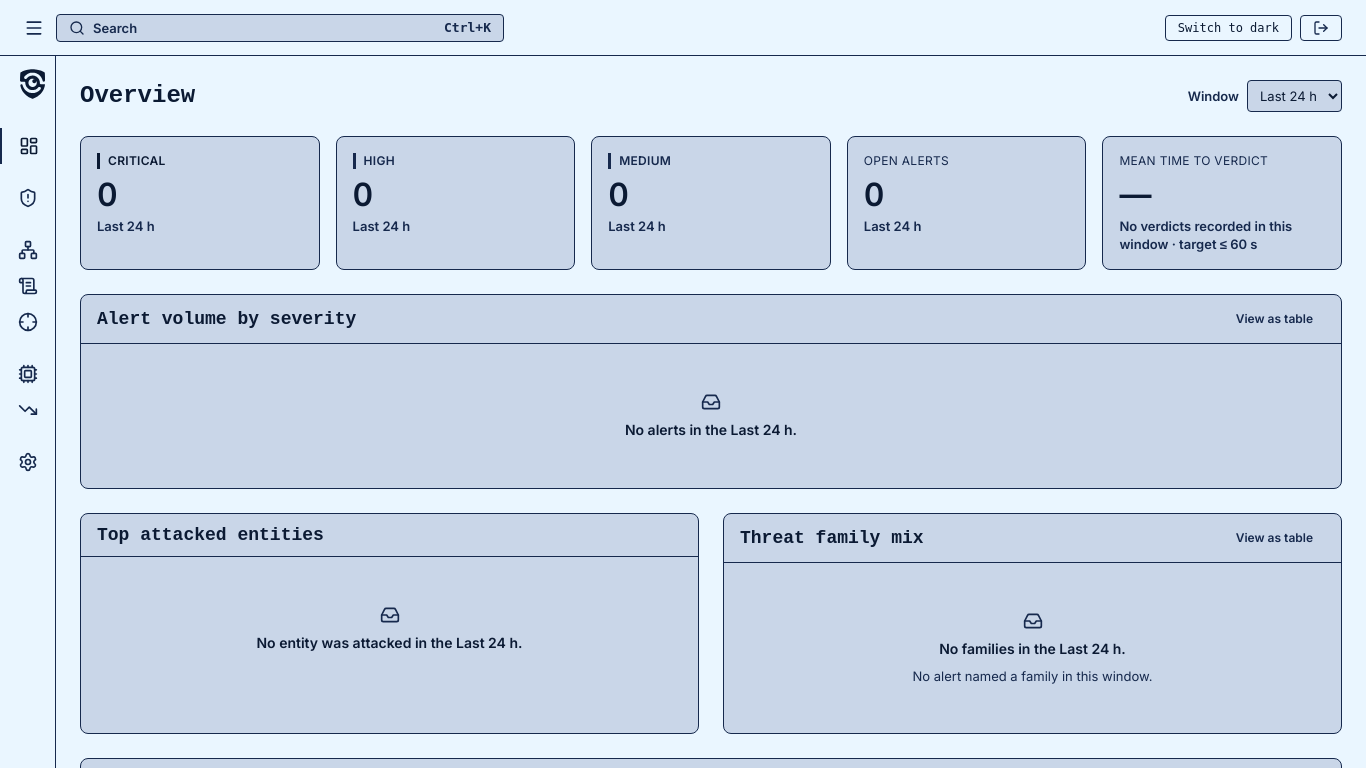
Test: routing and shell › navigates to the log explorer, which is built now
Click the link named "Logs" at (38, 290), box [18,276,59,304]
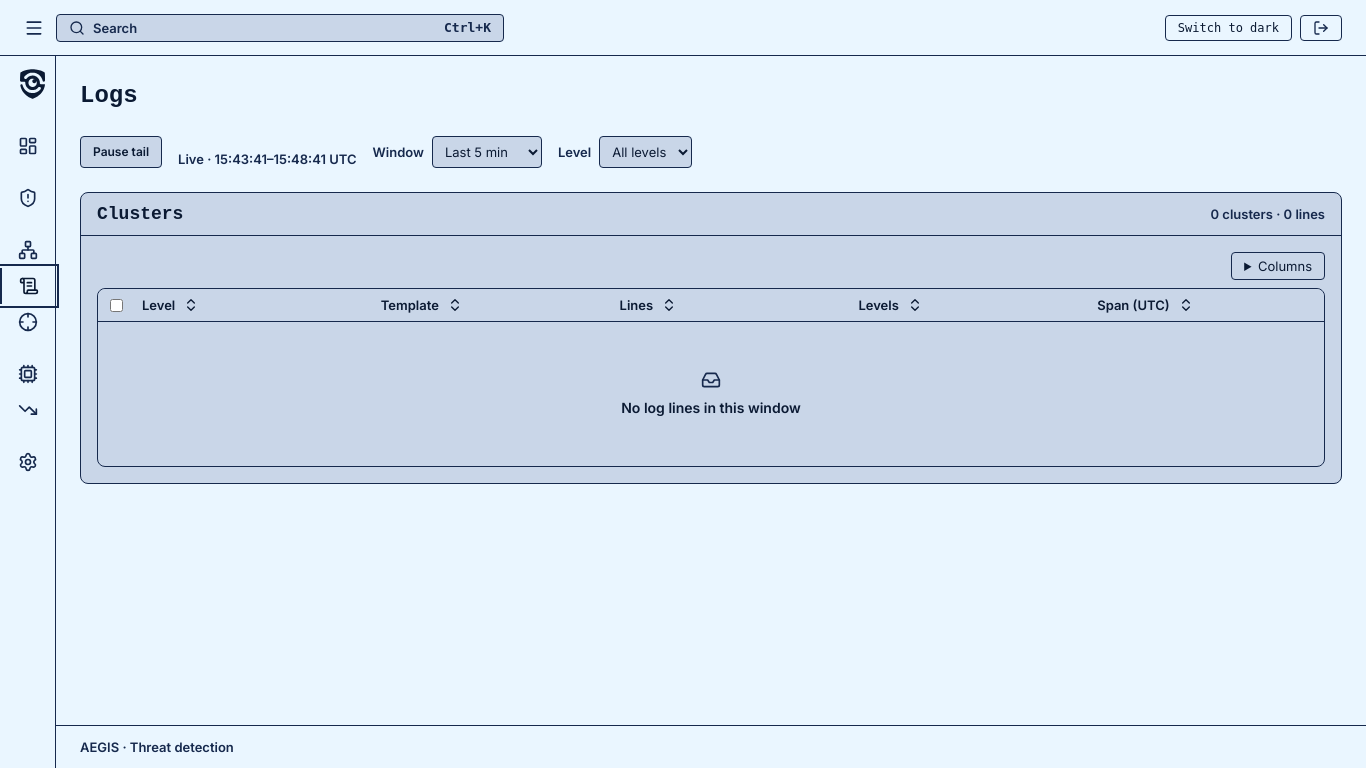
Result: the heading "Logs" is shown at [80,80,138,112]
Result: the text "No log lines in this window" is shown at [621,398,801,418]
